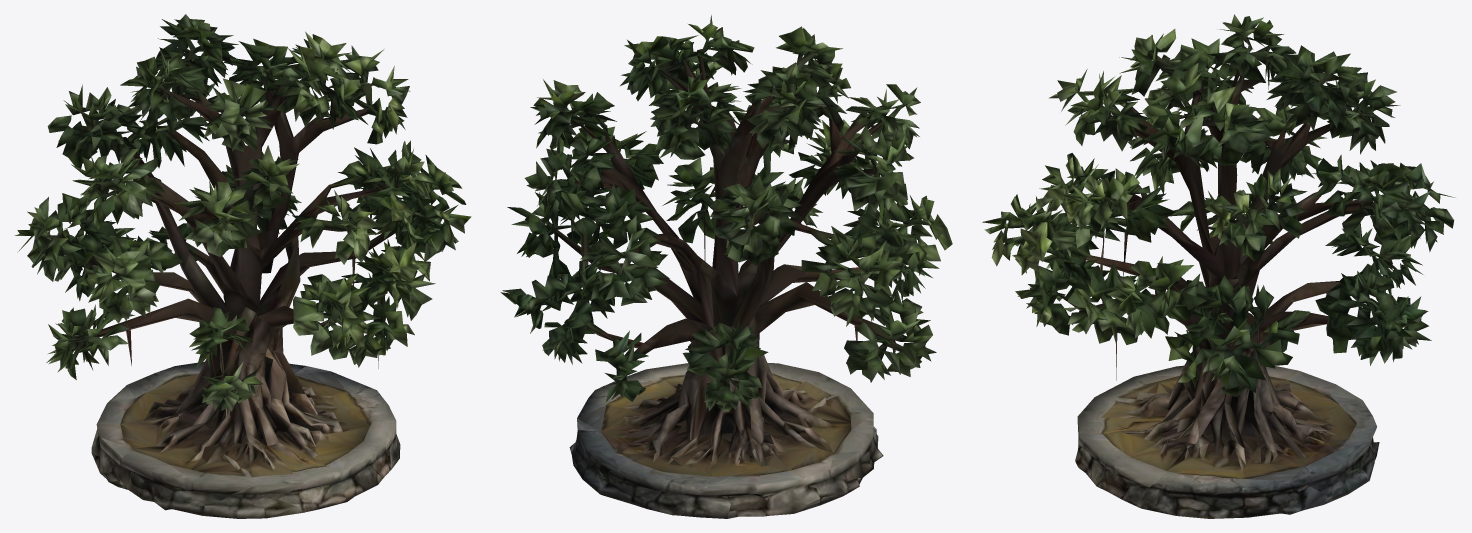
The model's file is banyan.glb.
The picture shows the model from 3 angles, left to right: view 1: azimuth 30°, elevation 25°; view 2: azimuth 150°, elevation 25°; view 3: azimuth 270°, elevation 25°; orthographic projection.
Parts seen in each view (by area): view 1: tripo_node_66b50316-21fa-4742-94ea-465882f33b11; view 2: tripo_node_66b50316-21fa-4742-94ea-465882f33b11; view 3: tripo_node_66b50316-21fa-4742-94ea-465882f33b11.
Part boxes in pixels (box(x1,y1,x2,y2)): tripo_node_66b50316-21fa-4742-94ea-465882f33b11: box(14, 14, 471, 518); tripo_node_66b50316-21fa-4742-94ea-465882f33b11: box(500, 15, 952, 518); tripo_node_66b50316-21fa-4742-94ea-465882f33b11: box(982, 14, 1455, 518).
Size of the model in its own units: 0.9528 by 0.9129 by 0.9712.
1 material, 1 textured.
